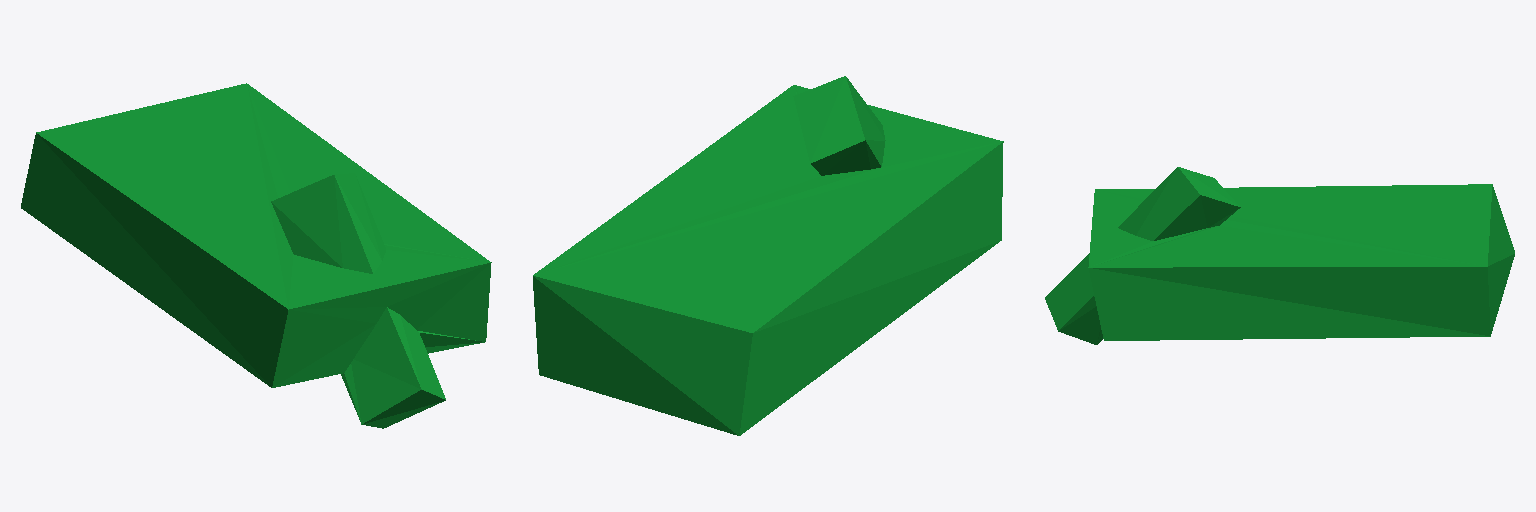
robot.urdf — blob508:

<robot name="blob508">
  <link name="random_obj_508">
    <contact>
      <lateral_friction value="1.0"/>
      <rolling_friction value="0.0"/>
      <inertia_scaling value="3.0"/>
      <contact_cfm value="0.0"/>
      <contact_erp value="1.0"/>
    </contact>
    <inertial>
      <origin rpy="0 0 0" xyz="0 0 0"/>
      <mass value="0.0666"/>
      <inertia ixx="1" ixy="0" ixz="0" iyy="1" iyz="0" izz="0"/>
    </inertial>
    <visual>
      <origin rpy="0 0 0" xyz="0 0 0"/>
      <geometry>
        <mesh filename="508.obj" scale="0.0062 0.0062 0.0062"/>
      </geometry>
      <material name="blockmat">
        <color rgba="0.12 0.65 0.26 1"/>
      </material>
    </visual>
    <collision>
      <origin rpy="0 0 0" xyz="0 0 0"/>
      <geometry>
        <mesh filename="508_coll.obj" scale="0.0062 0.0062 0.0062"/>
      </geometry>
    </collision>
  </link>
</robot>

--- What the picture shows (computed from the rendered views, not written in the file) ---
The picture shows the robot from 3 angles, left to right: view 1: azimuth 30°, elevation 25°; view 2: azimuth 150°, elevation 25°; view 3: azimuth 270°, elevation 25°; orthographic projection.
Robot: blob508 — 1 links, 0 joints (none); root link random_obj_508; default pose: every joint at zero.
Visible links, largest first — view 1: random_obj_508; view 2: random_obj_508; view 3: random_obj_508.
Boxes of the visible links, bbox=[...] form: random_obj_508: bbox=[21, 83, 491, 428]; random_obj_508: bbox=[533, 76, 1003, 435]; random_obj_508: bbox=[1045, 167, 1514, 344].
Bounding box of the posed robot: 0.0373 × 0.0867 × 0.0363 m (x, y, z).
1 mesh visuals loaded from 1 distinct referenced files (1 OBJ).
